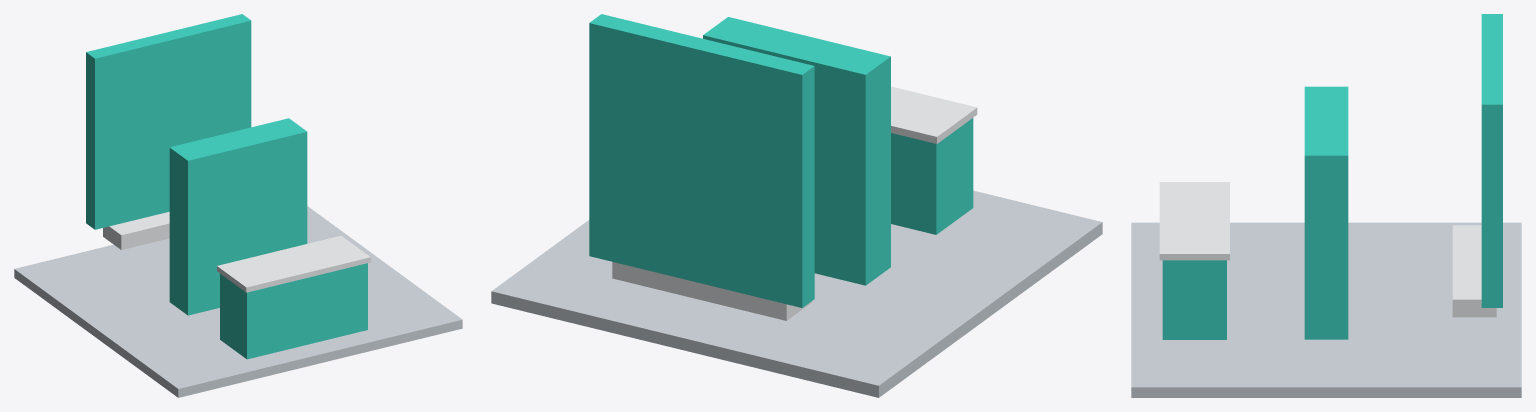
The picture shows the model from 3 angles, left to right: view 1: azimuth 30°, elevation 25°; view 2: azimuth 150°, elevation 25°; view 3: azimuth 270°, elevation 25°; orthographic projection. The views are drawn at different scales.
Parts seen in each view (by area): view 1: Exhibition Booth Concept; view 2: Exhibition Booth Concept; view 3: Exhibition Booth Concept.
Boxes of the visible parts, x1,y1,x2,y2 form: Exhibition Booth Concept: (14,14,462,397); Exhibition Booth Concept: (491,14,1102,397); Exhibition Booth Concept: (1131,14,1521,397).
Bounding box in the file's own units: 4 × 2.9 × 4.
